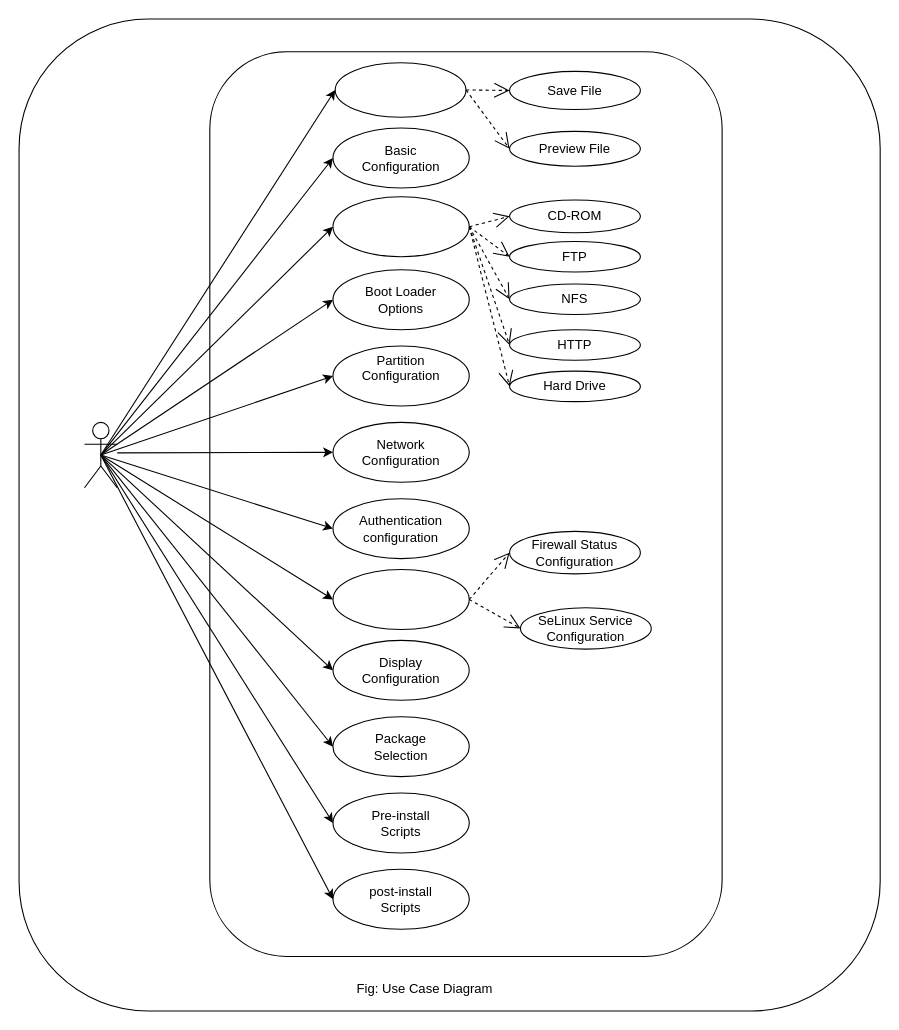
Some shapes in this 899 by 1030 pixel diagram are drawn without their labels. The shapes that lost their labels are listed below. From the top down, each one's box as (x1, y1, x2, y2) in pixels, then its label:
(334, 62, 466, 117): Manage File
(332, 196, 469, 257): Installation Method
(83, 421, 117, 488): User
(332, 568, 469, 629): Firewall Configuration
